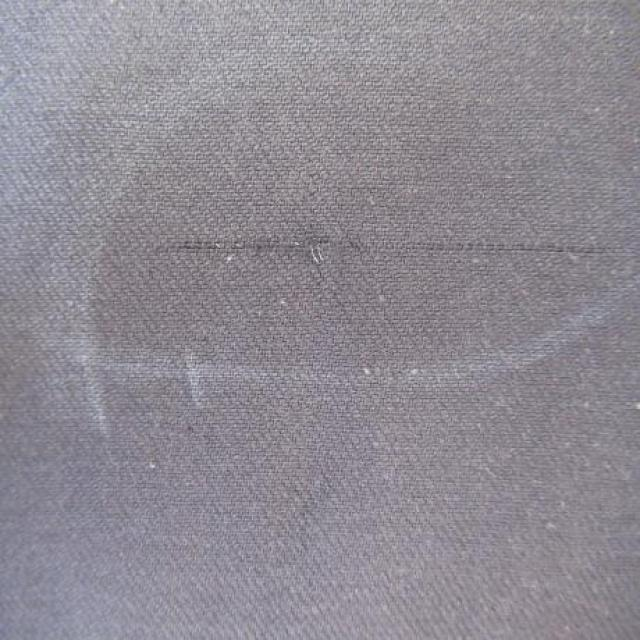stains: (130, 191, 630, 307)
